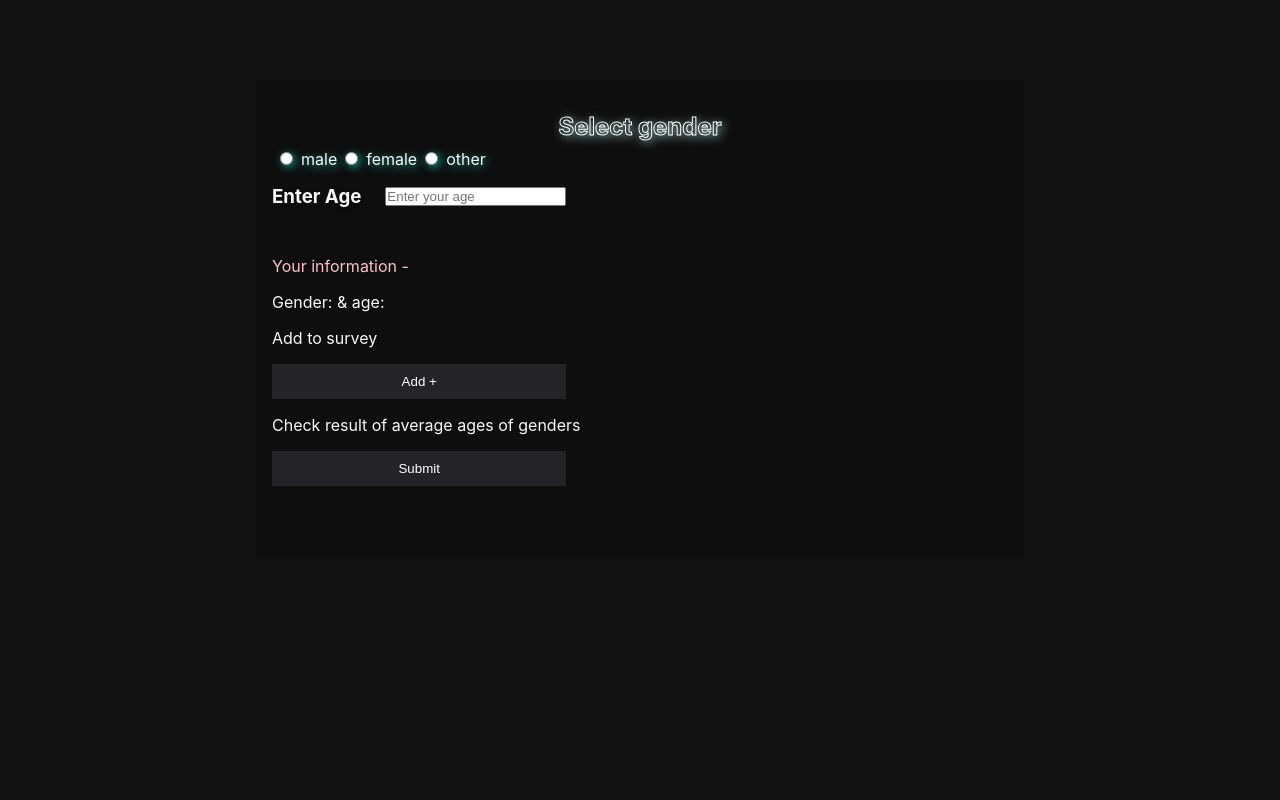
Test case: user interaction flow: select gender, enter age, add to survey, and check result
The width and height of the screenshot is (1280, 800).
Click the radio button labelled "male": (286, 158) [280,152,293,165]
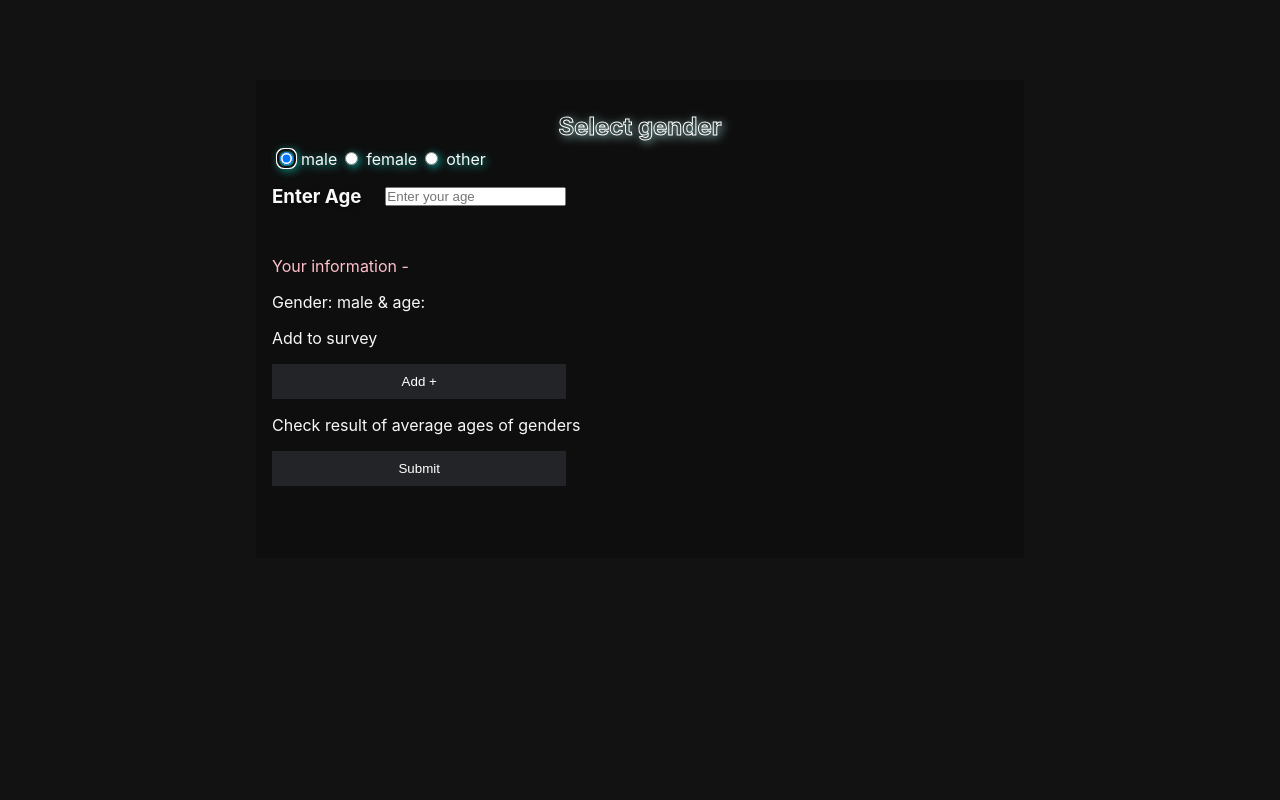
Expected: the radio button labelled "female" is not checked, [345,152,358,165]
Expected: the radio button labelled "male" is checked, [280,152,293,165]
In the number field with placeholder "Enter your age": (476, 196) [385,187,566,206], type "25"
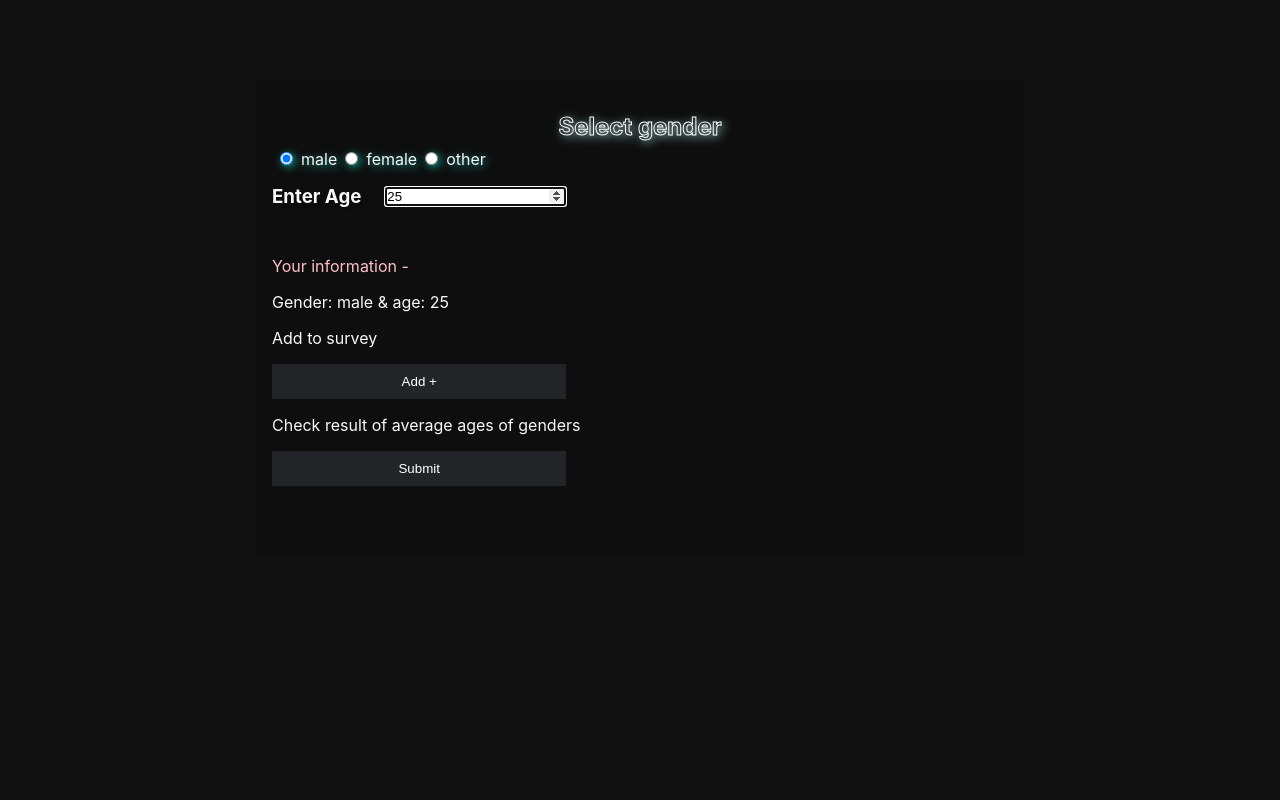
Click the button "Add +": (419, 382) [272,364,566,399]
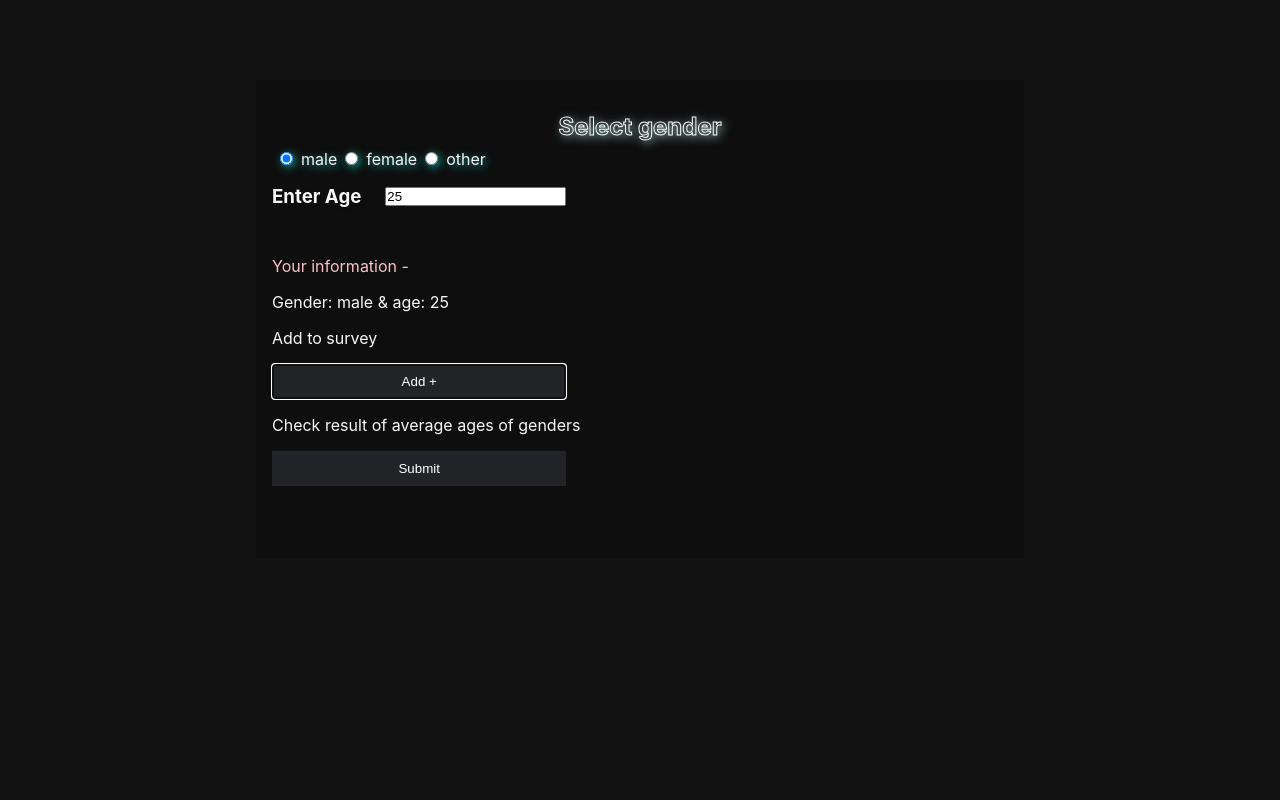
Click the button "Submit": (419, 468) [272,451,566,486]
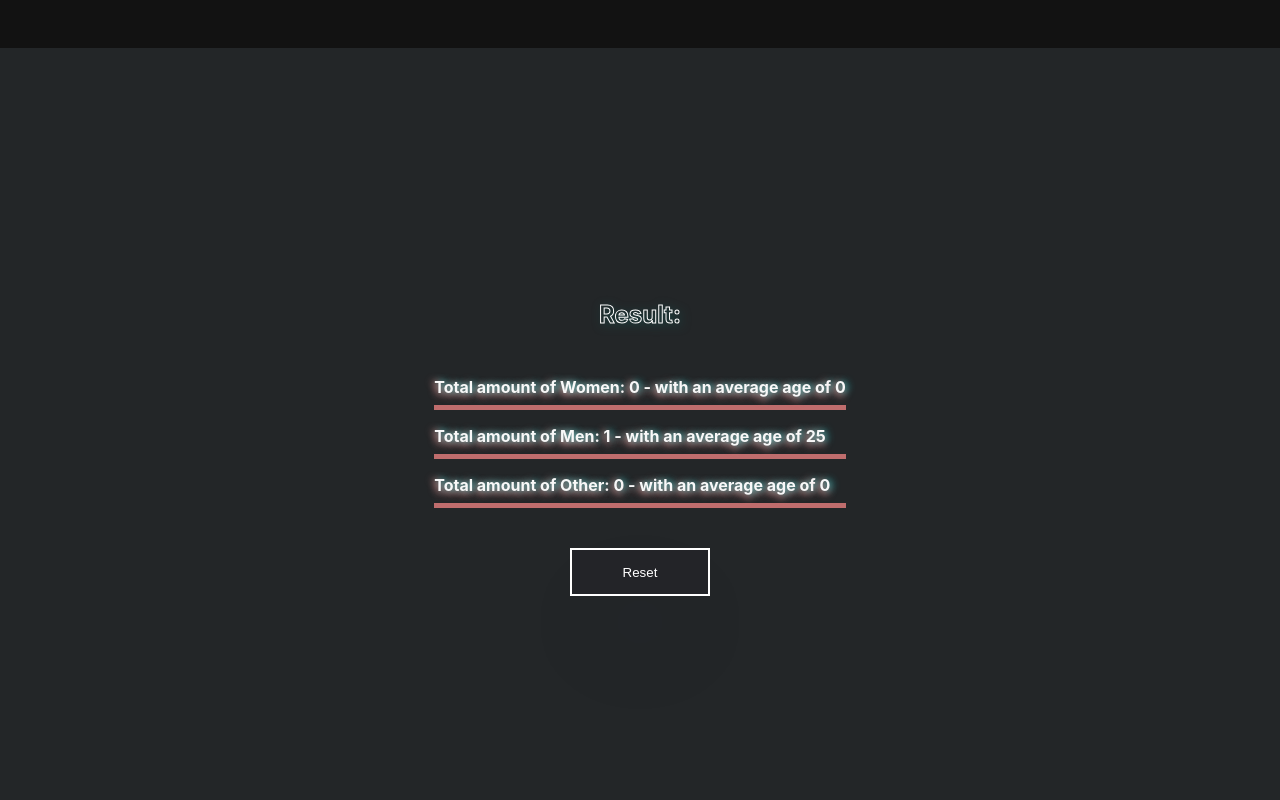
Expected: the heading "Result:" is shown, [599,300,681,329]
Expected: the heading "Total amount of Men: 1 - with an average age of 25" is shown, [434,426,846,446]
Expected: the heading "Total amount of Women: 0 - with an average age of 0" is shown, [434,377,846,397]
